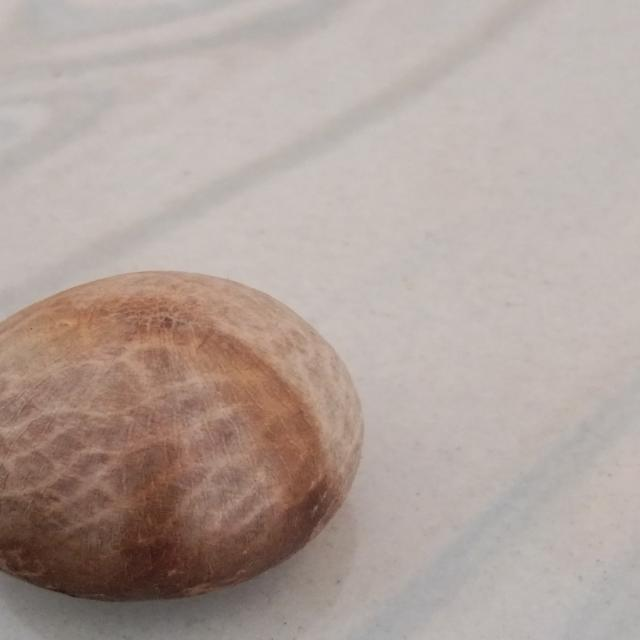karigot: (0, 250, 397, 640)
